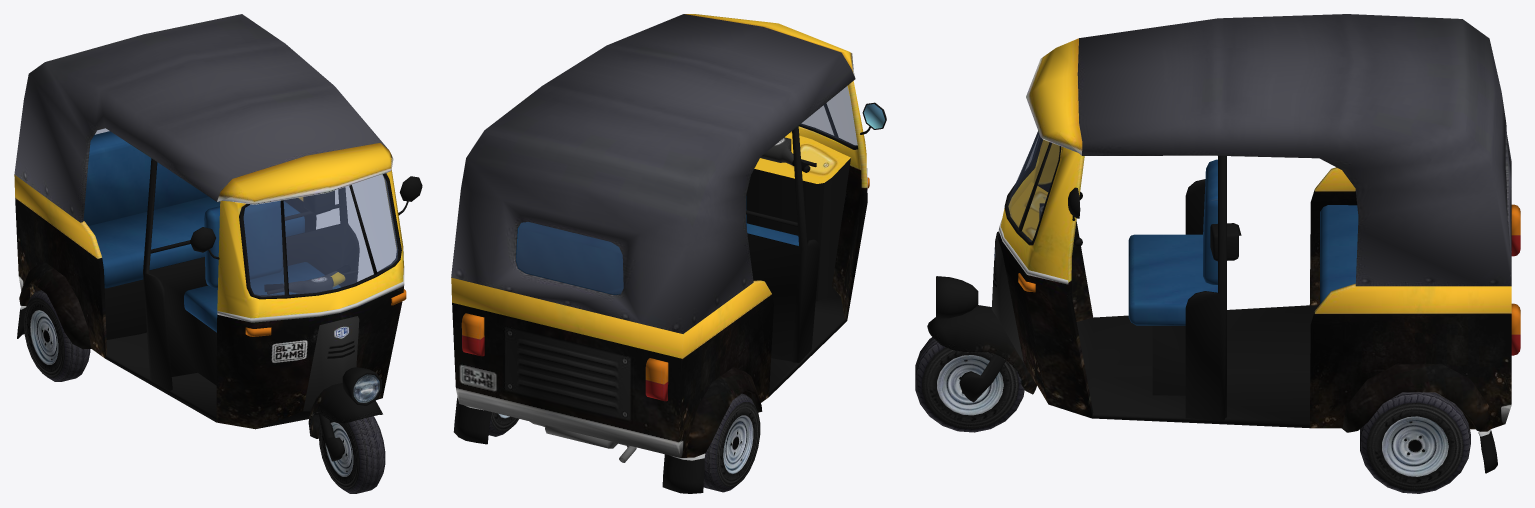
File: keke-4.glb
3 renders of one model, left to right at view 1: azimuth 30°, elevation 25°; view 2: azimuth 150°, elevation 25°; view 3: azimuth 270°, elevation 25°, orthographic. The views are drawn at different scales.
Visible parts, largest first — view 1: Plane.001_3, Plane_2, Cylinder_4, Plane.003_10, Cylinder.001_5, Plane.005_12, Plane.004_11, Plane.010_18, Cylinder.002_6, Sphere_7, Plane.006_13, Cylinder.003_9 (+2 smaller); view 2: Plane.001_3, Plane_2, Cylinder_4, Plane.002_8, Plane.003_10, Cylinder.001_5, Plane.004_11, Plane.012_21, Plane.006_13, Plane.005_12, Plane.008_15, Cylinder.003_9; view 3: Plane.001_3, Plane_2, Cylinder_4, Cylinder.001_5, Plane.004_11, Plane.005_12, Cylinder.002_6, Plane.003_10, Sphere_7, Plane.006_13, Plane.010_18, Plane.002_8 (+1 smaller).
Part boxes in pixels (<box>): Plane.001_3: <box>14,14,388,222</box>; Plane_2: <box>14,170,403,429</box>; Cylinder_4: <box>83,131,359,390</box>; Plane.003_10: <box>95,128,398,296</box>; Cylinder.001_5: <box>23,290,385,493</box>; Plane.005_12: <box>217,143,393,204</box>; Plane.004_11: <box>19,262,90,349</box>; Plane.010_18: <box>239,173,401,299</box>; Cylinder.002_6: <box>308,383,382,438</box>; Sphere_7: <box>315,367,381,461</box>; Plane.006_13: <box>190,176,422,336</box>; Cylinder.003_9: <box>264,264,358,294</box>; Plane.001_3: <box>451,14,855,333</box>; Plane_2: <box>451,81,867,457</box>; Cylinder_4: <box>516,126,819,362</box>; Plane.002_8: <box>746,133,850,301</box>; Plane.003_10: <box>516,86,857,294</box>; Cylinder.001_5: <box>488,393,760,492</box>; Plane.004_11: <box>687,367,762,457</box>; Plane.012_21: <box>453,396,705,493</box>; Plane.006_13: <box>461,102,886,401</box>; Plane.005_12: <box>685,14,855,77</box>; Plane.008_15: <box>529,421,636,462</box>; Cylinder.003_9: <box>760,137,816,172</box>; Plane.001_3: <box>1077,14,1511,286</box>; Plane_2: <box>991,139,1511,429</box>; Cylinder_4: <box>1128,156,1358,420</box>; Cylinder.001_5: <box>915,337,1470,493</box>; Plane.004_11: <box>1342,364,1491,432</box>; Plane.005_12: <box>1026,38,1082,155</box>; Cylinder.002_6: <box>927,305,1036,394</box>; Plane.003_10: <box>1008,132,1059,241</box>; Sphere_7: <box>936,276,1011,402</box>; Plane.006_13: <box>1018,187,1520,355</box>; Plane.010_18: <box>1004,131,1061,245</box>; Plane.002_8: <box>1011,182,1072,299</box>.
Size of the model in its own units: 1.64 by 1.98 by 2.97.
4 materials, 3 textured.
